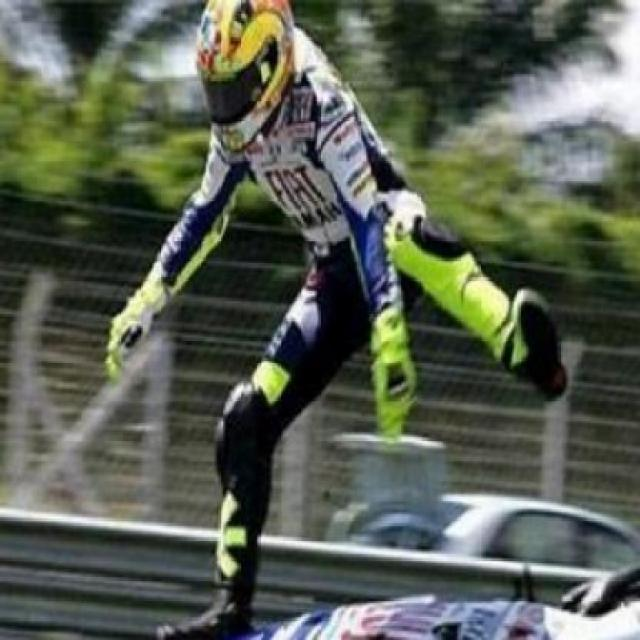fall: (96, 0, 558, 638)
